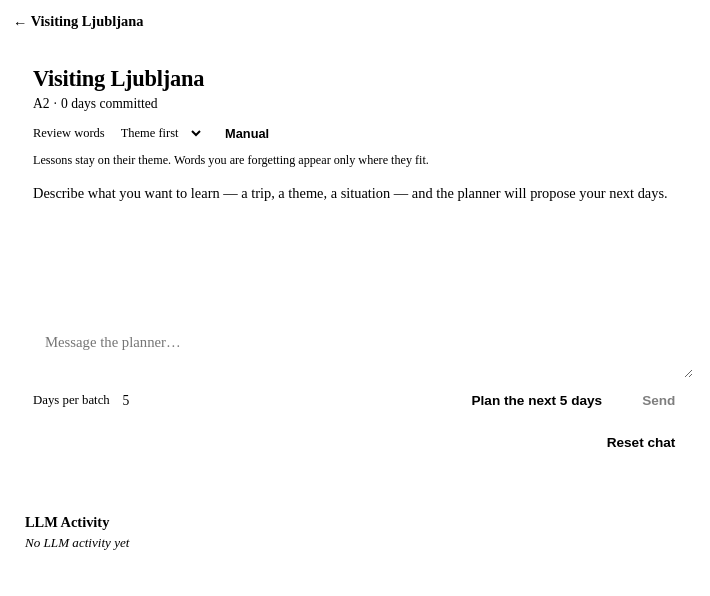
/c/[curriculumId]/plan page › turn failure shows the error and appends nothing
This screenshot has width=710, height=596.
Type "plan" into the text box with placeholder "Message the planner…".
click(363, 351); type("plan")  # box [33, 325, 693, 378]
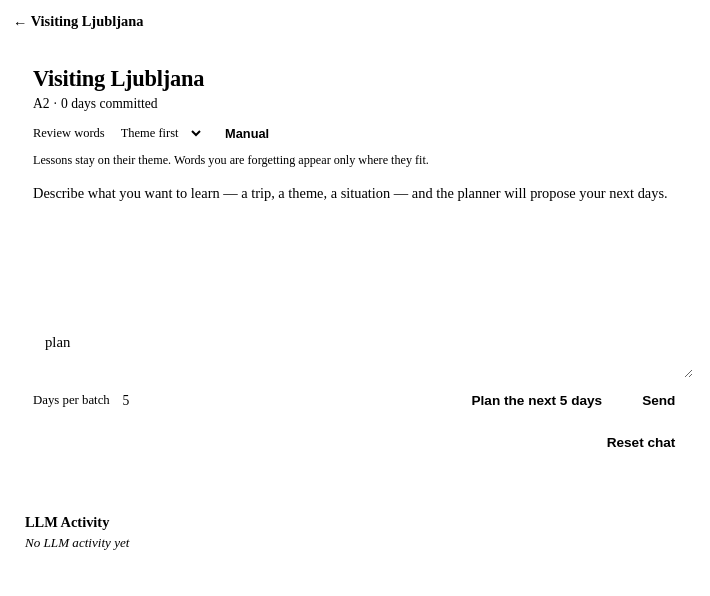
Click the button "Send".
click(659, 401)  # box [625, 386, 693, 415]
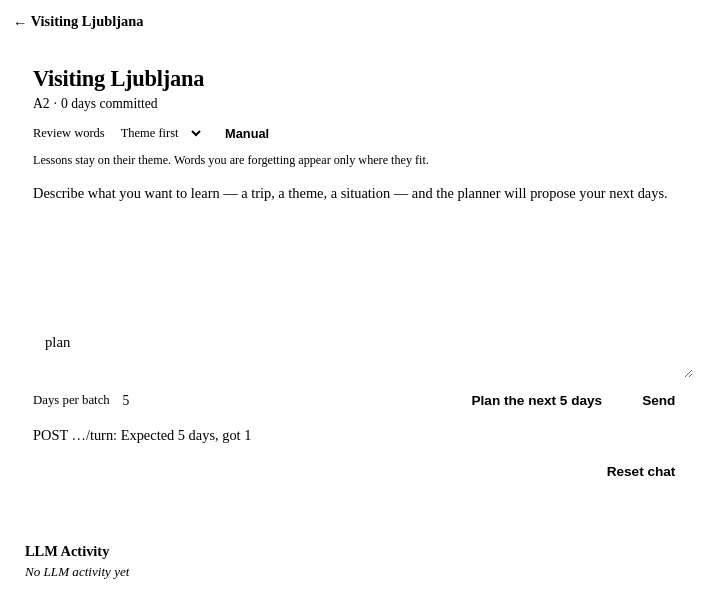
Now the text "POST …/turn: Expected 5 days, got 1" is shown, box [33, 427, 251, 443]
